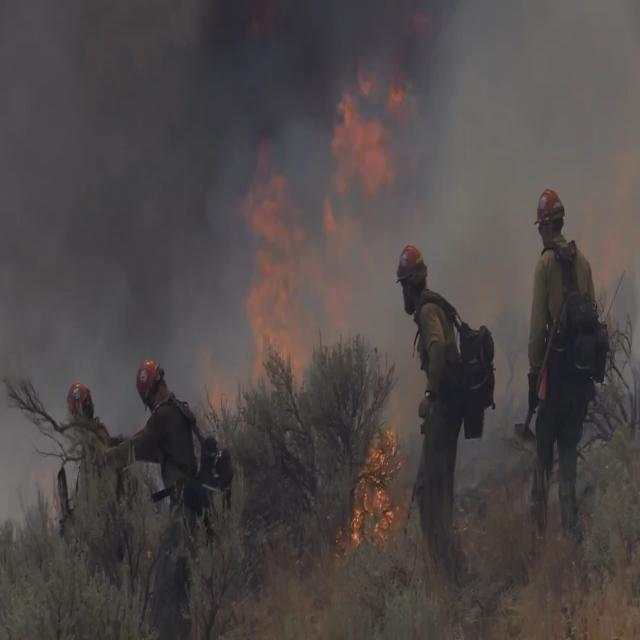Fire: (246, 54, 402, 544)
